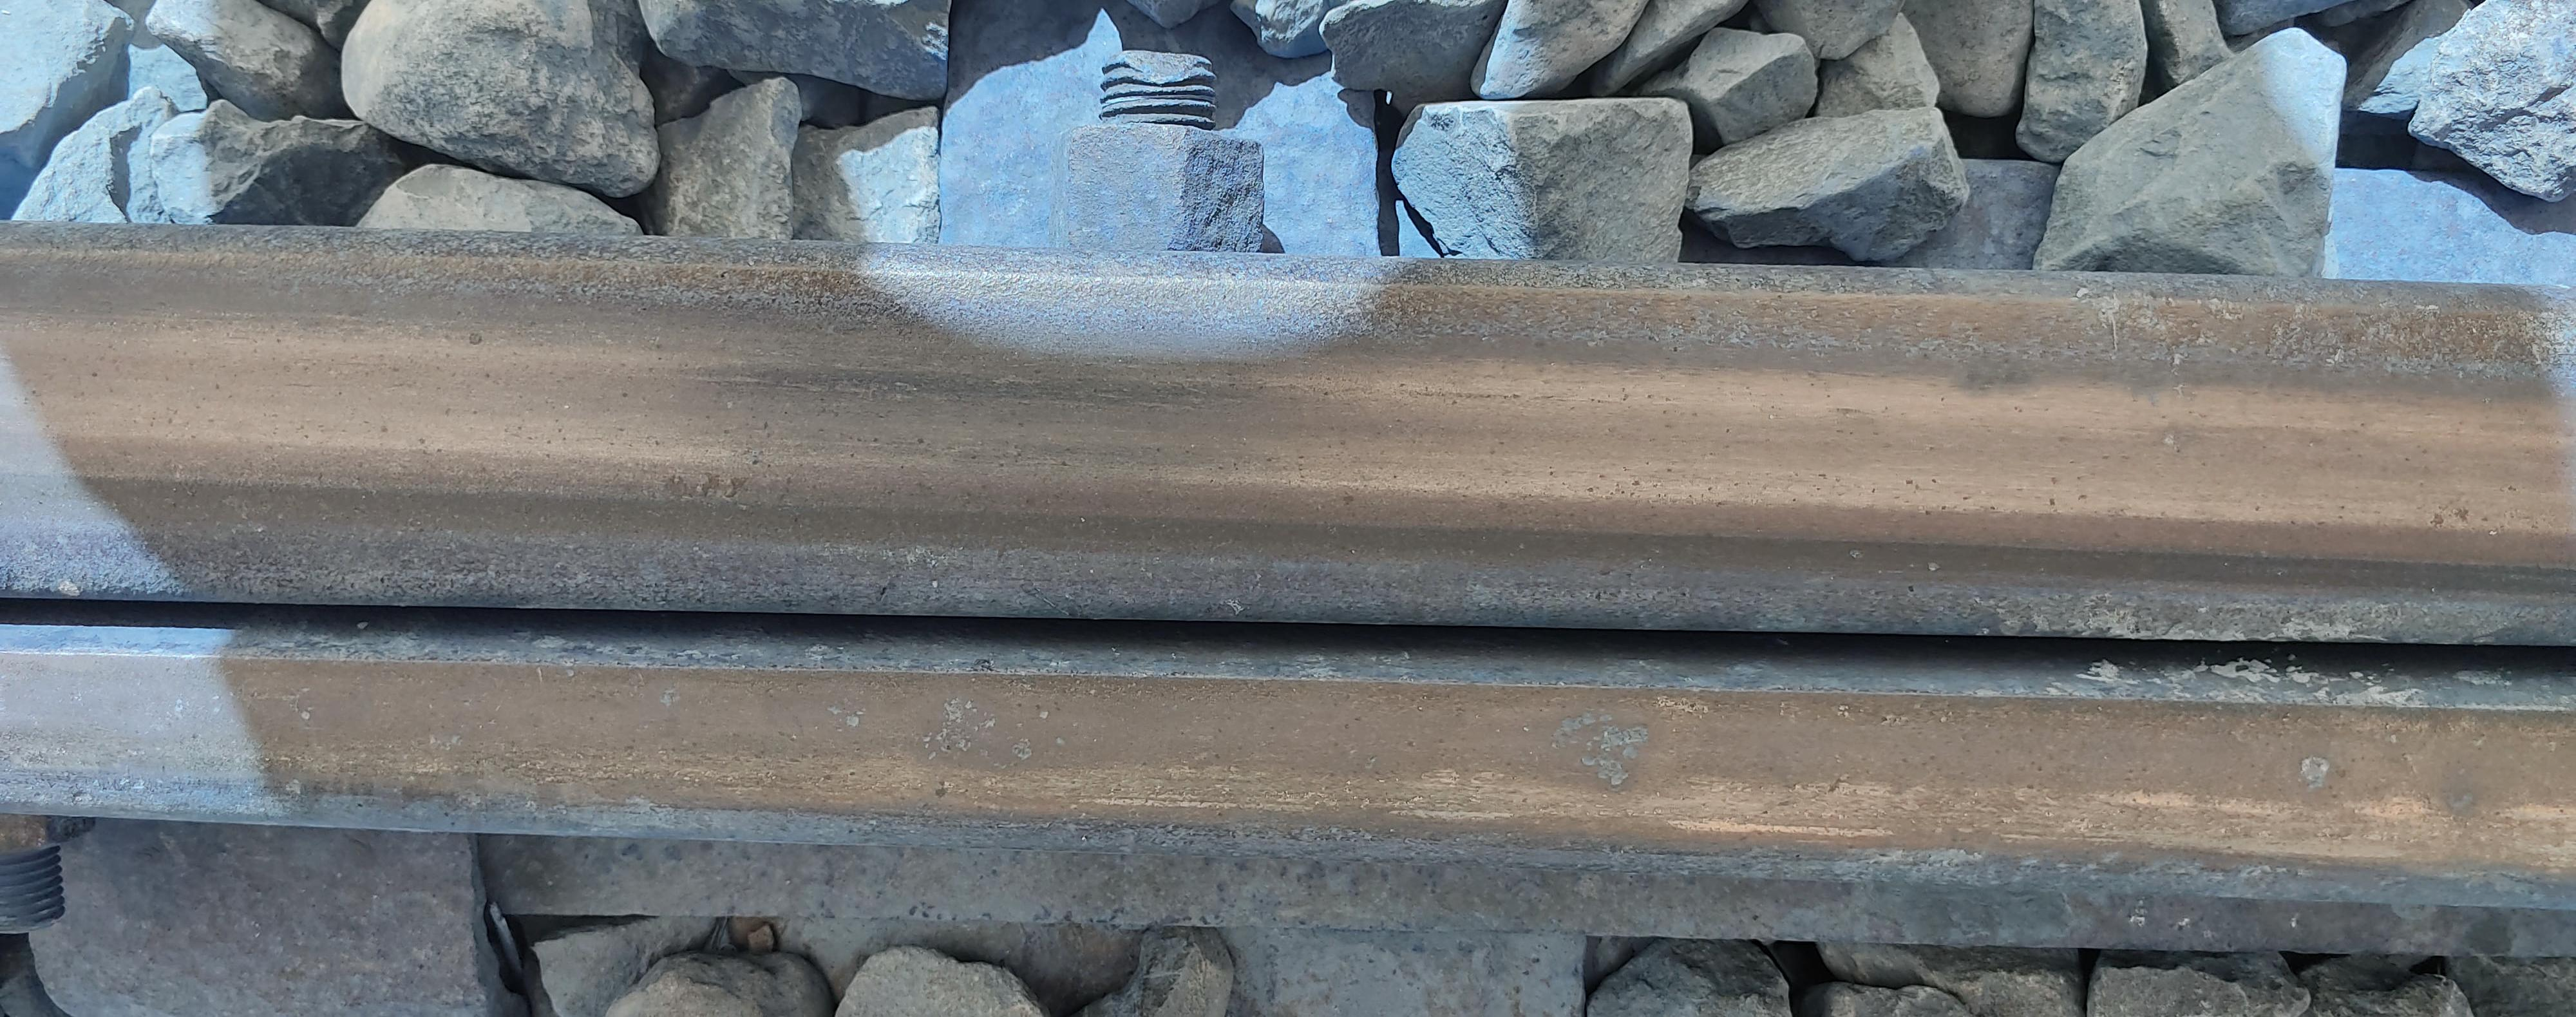error2: (1198, 565, 1715, 782)
